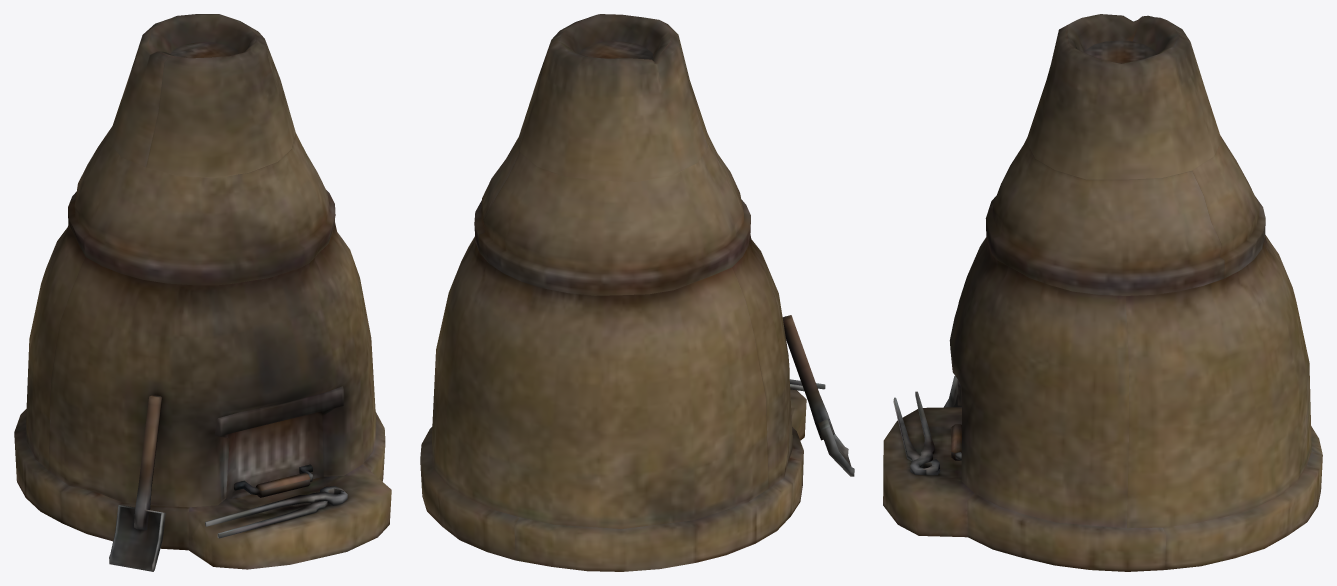
Rendered from kiln.glb.
3 renders of one model, left to right at view 1: azimuth 30°, elevation 25°; view 2: azimuth 150°, elevation 25°; view 3: azimuth 270°, elevation 25°, orthographic. The views are drawn at different scales.
Parts seen in each view (by area): view 1: npc_props_kiln_01; view 2: npc_props_kiln_01; view 3: npc_props_kiln_01.
Boxes of the visible parts, x1=… form: npc_props_kiln_01: x1=14, y1=14, x2=391, y2=571; npc_props_kiln_01: x1=420, y1=14, x2=854, y2=571; npc_props_kiln_01: x1=883, y1=14, x2=1322, y2=571.
Size of the model in its own units: 1.94 by 2.51 by 2.18.
1 material, 1 textured.
